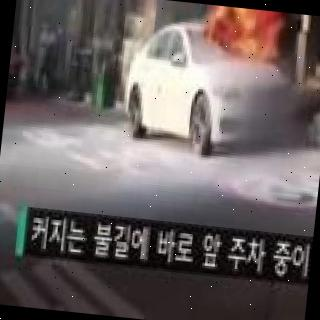fire: (212, 5, 287, 53)
